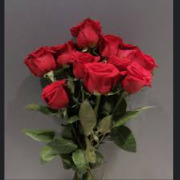RedRose: (84, 60, 116, 94), (20, 49, 54, 79), (76, 20, 107, 49), (128, 61, 148, 95), (70, 52, 95, 78), (99, 34, 128, 55), (42, 82, 66, 107), (114, 44, 138, 68), (53, 39, 75, 65)
